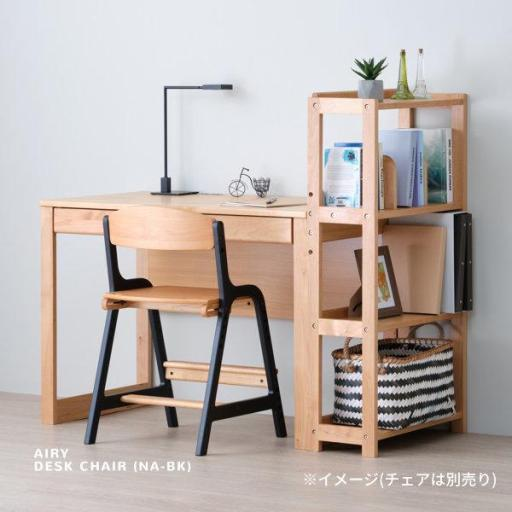table: (35, 190, 337, 460)
